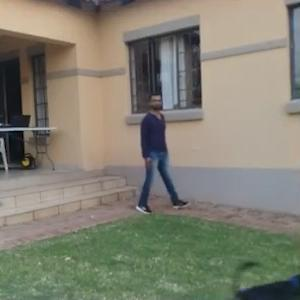follow: (137, 86, 177, 218)
